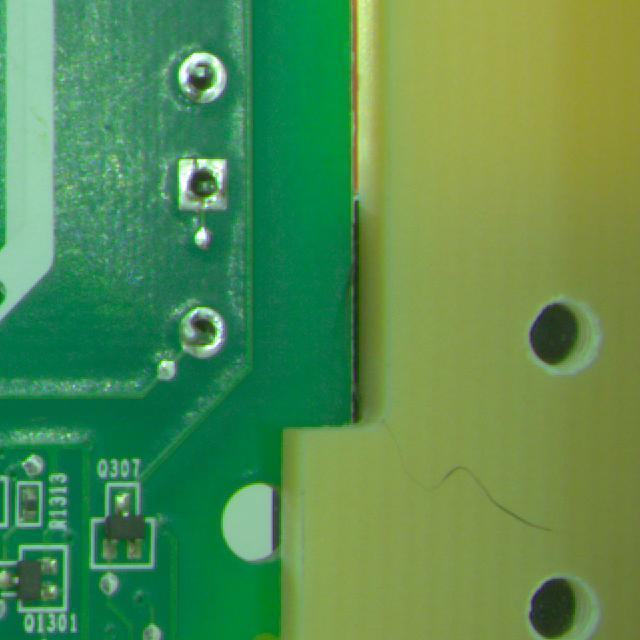Insufficient solder: (168, 148, 242, 216), (174, 305, 240, 362), (172, 49, 233, 108)
